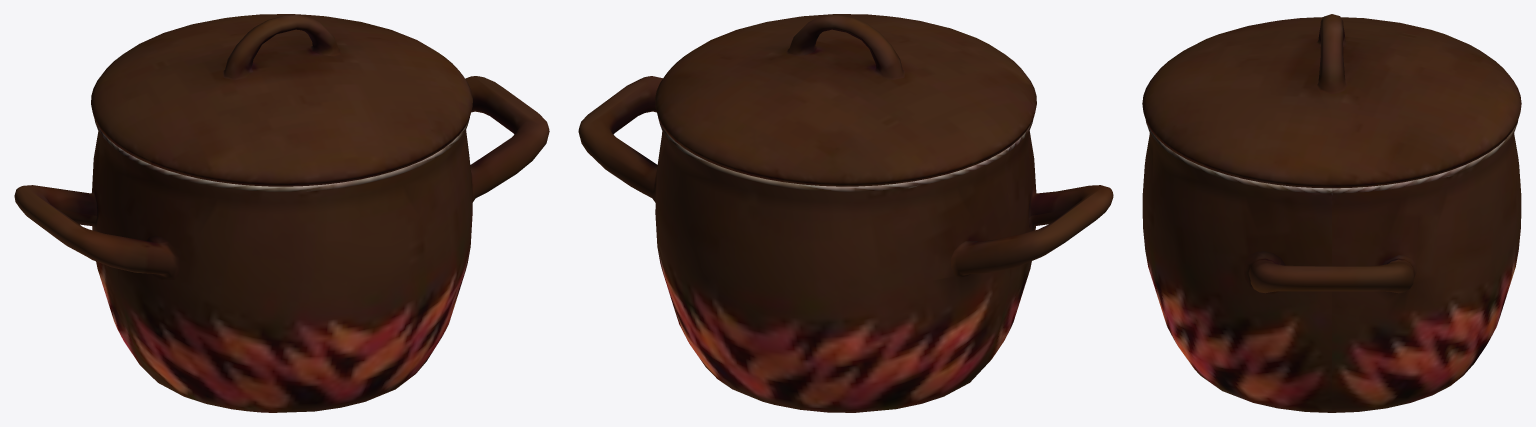
File: enamel-pot.glb
The picture shows the model from 3 angles, left to right: view 1: azimuth 30°, elevation 25°; view 2: azimuth 150°, elevation 25°; view 3: azimuth 270°, elevation 25°; orthographic projection.
Parts seen in each view (by area): view 1: pot_enamel_01_base, pot_enamel_01_lid; view 2: pot_enamel_01_base, pot_enamel_01_lid; view 3: pot_enamel_01_base, pot_enamel_01_lid.
Part boxes in pixels (x1,y1,x2,y2): pot_enamel_01_base: (14,76,549,412); pot_enamel_01_lid: (91,14,472,186); pot_enamel_01_base: (578,76,1113,412); pot_enamel_01_lid: (655,14,1036,186); pot_enamel_01_base: (1142,120,1521,412); pot_enamel_01_lid: (1142,14,1521,188).
Size of the model in its own units: 0.2627 by 0.178 by 0.1805.
Materials: 1 (1 with a texture image).
